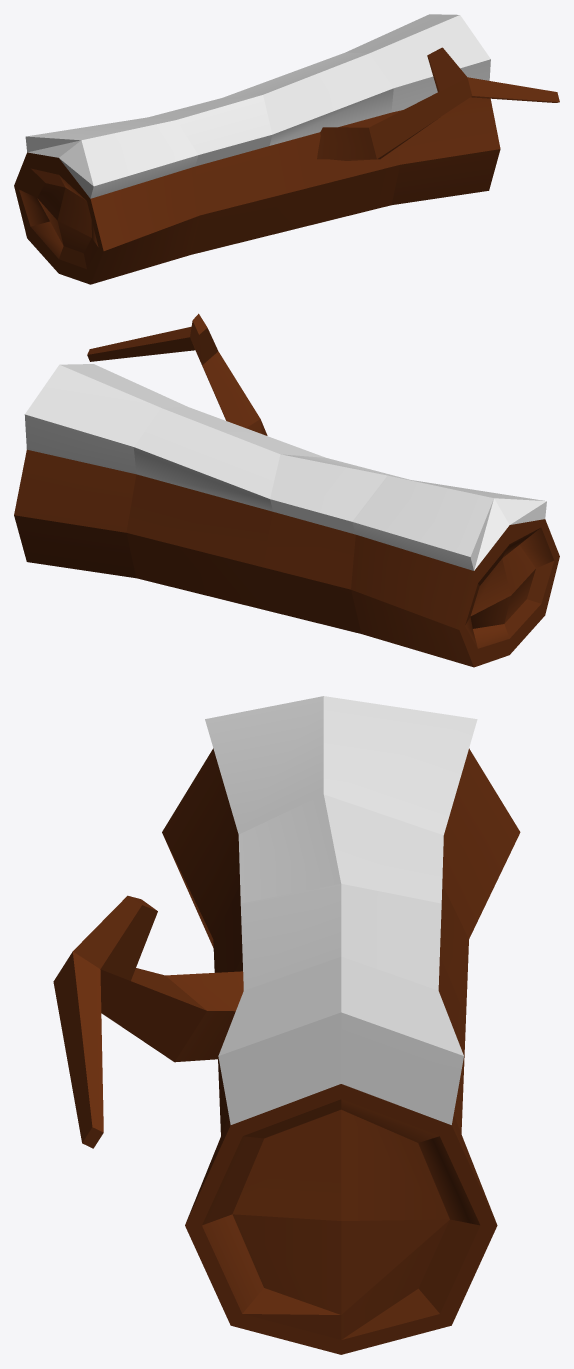
Rendered from Winter_019.fbx.
The picture shows the model from 3 angles, top to bottom: view 1: azimuth 30°, elevation 25°; view 2: azimuth 150°, elevation 25°; view 3: azimuth 270°, elevation 25°; orthographic projection. The views are drawn at different scales.
Visible parts, largest first — view 1: Winter_019; view 2: Winter_019; view 3: Winter_019.
Boxes of the visible parts, x1=… form: Winter_019: x1=14, y1=14, x2=559, y2=284; Winter_019: x1=14, y1=313, x2=559, y2=667; Winter_019: x1=53, y1=696, x2=520, y2=1354.
Size of the model in its own units: 2.04 by 0.8665 by 0.9433.
